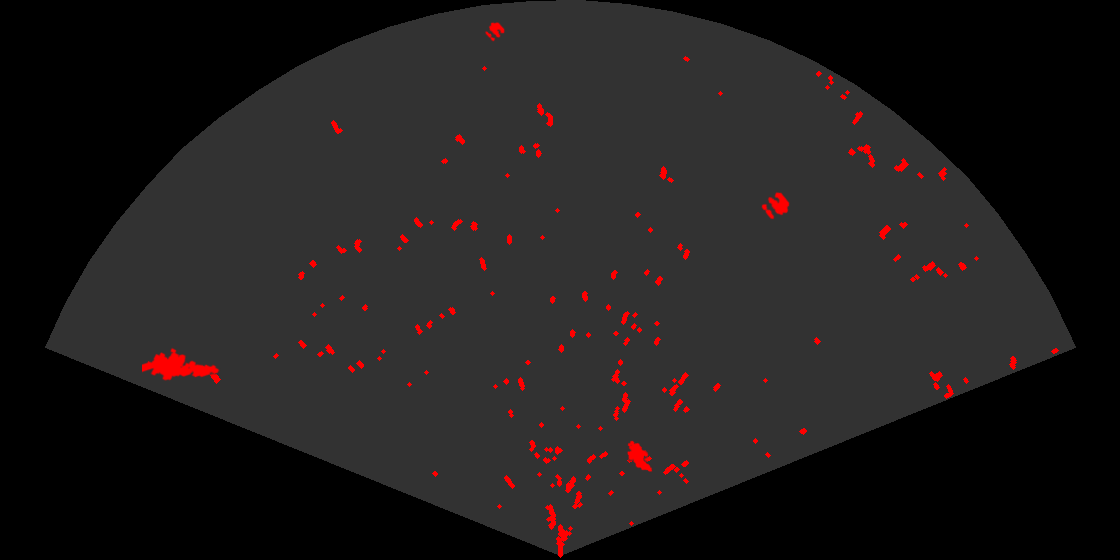AUV: (626, 439, 654, 474)
ball: (760, 190, 791, 221), (483, 21, 506, 43)
frogman: (142, 346, 221, 382)
